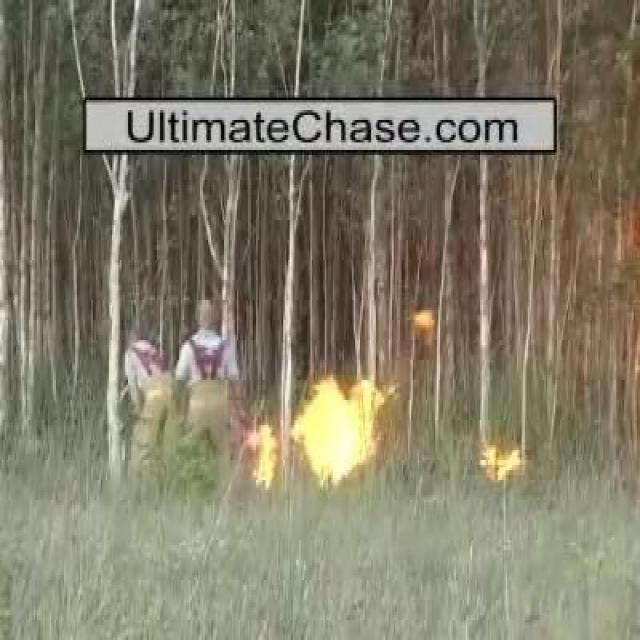Fire: (253, 384, 381, 488), (482, 442, 520, 482)
